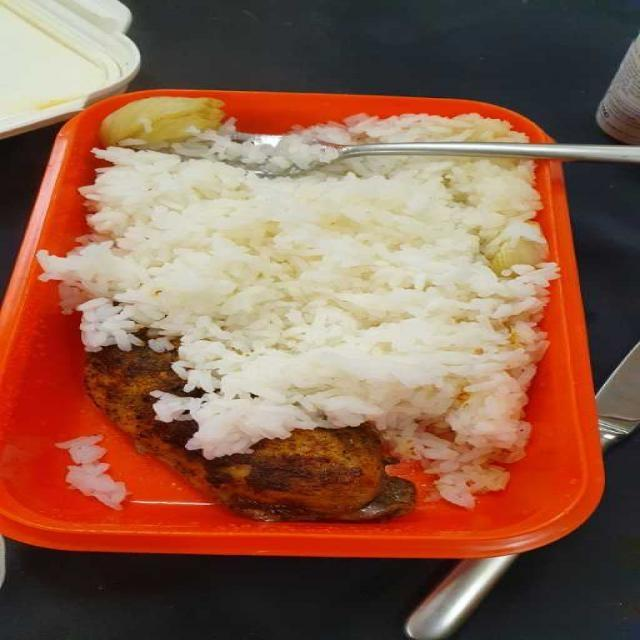cake: (58, 125, 549, 516)
chicken: (51, 86, 543, 531)
rice: (63, 128, 552, 514)
